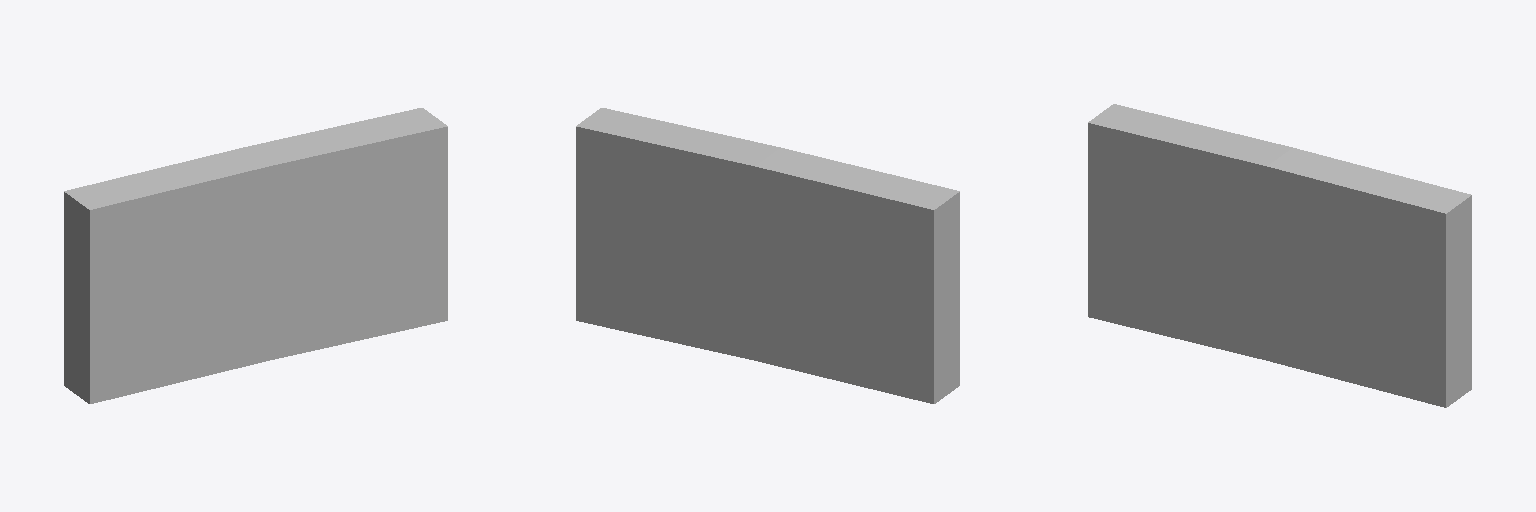
The model's file is Wallx2.obj.
3 renders of one model, left to right at view 1: azimuth 30°, elevation 25°; view 2: azimuth 150°, elevation 25°; view 3: azimuth 330°, elevation 25°, orthographic.
Visible parts, largest first — view 1: Wallx2; view 2: Wallx2; view 3: Wallx2.
Part boxes in pixels (x1,y1,x2,y2): Wallx2: (64, 108, 447, 403); Wallx2: (576, 108, 959, 403); Wallx2: (1088, 104, 1471, 407).
Bounding box in the file's own units: 2 × 1.06 × 0.25.